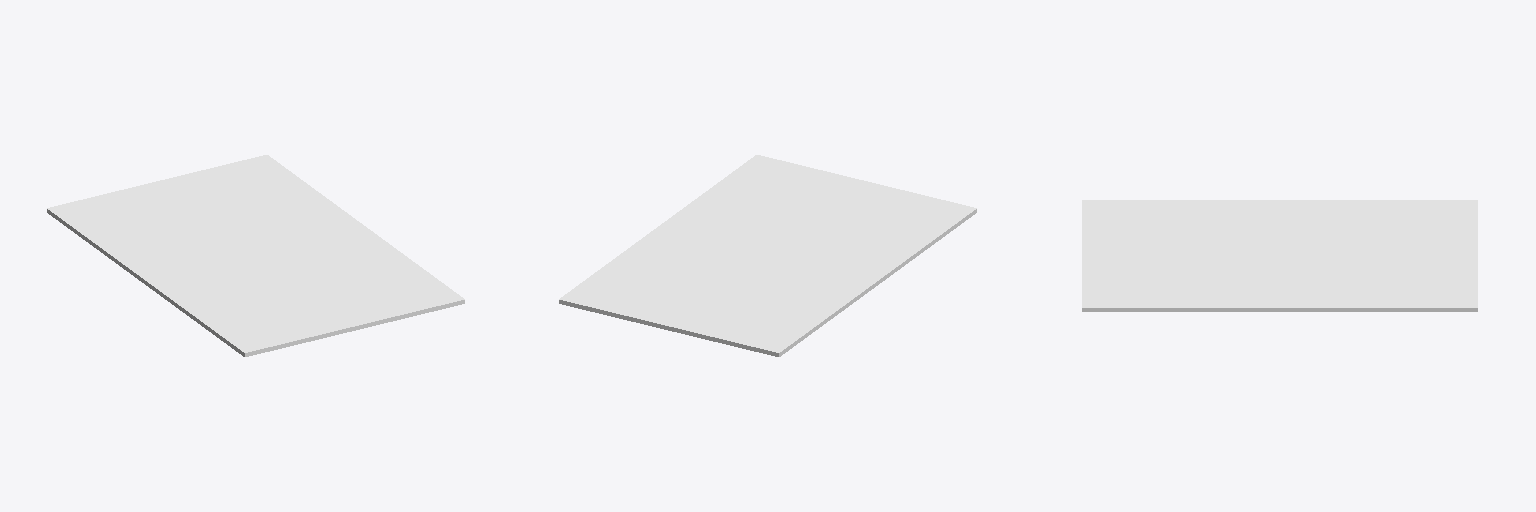
File: PaperWithWriting.obj
3 renders of one model, left to right at view 1: azimuth 30°, elevation 25°; view 2: azimuth 150°, elevation 25°; view 3: azimuth 270°, elevation 25°, orthographic.
Size of the model in its own units: 54 by 1 by 84.